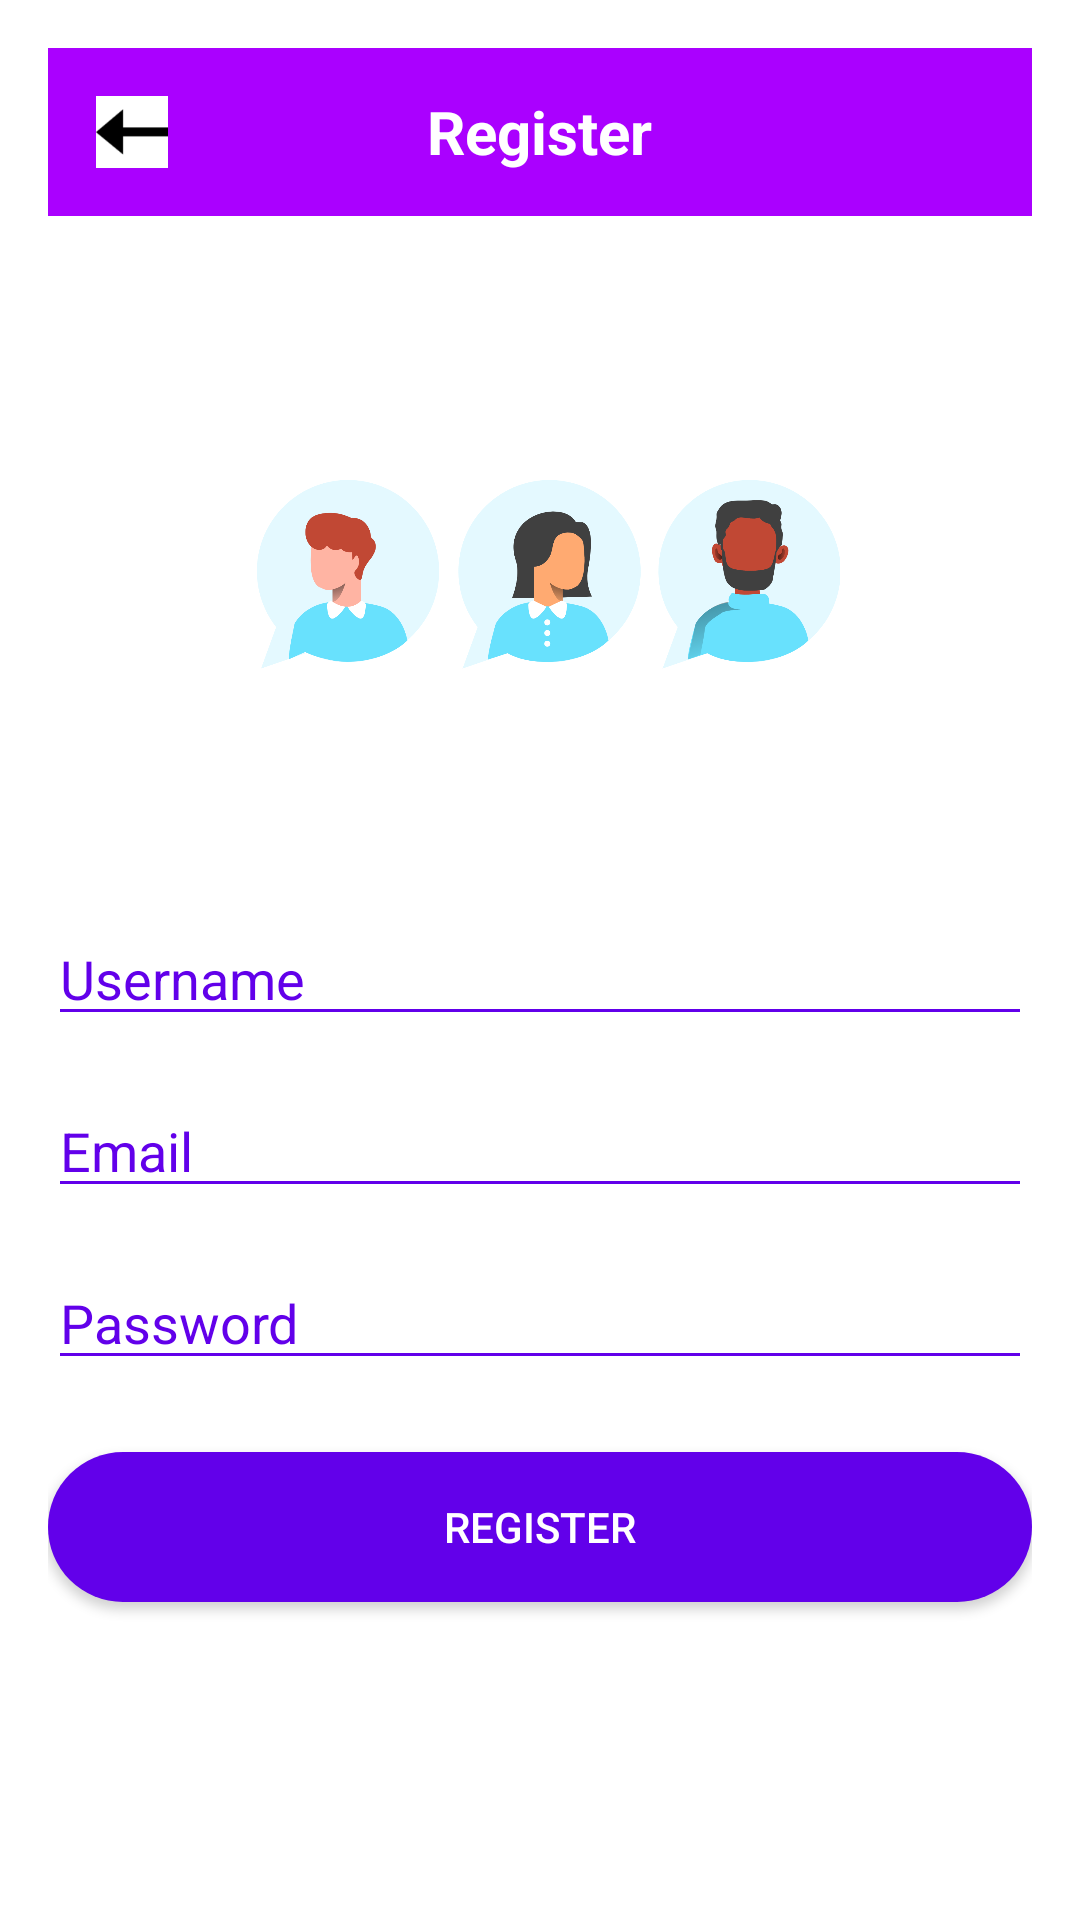

Locate icon controls on the screen. Image size 1080*1920, boxes as (x1=x1, y1=y1, x2=x2, y2=y2).
Back Button: (x1=96, y1=96, x2=168, y2=168)
